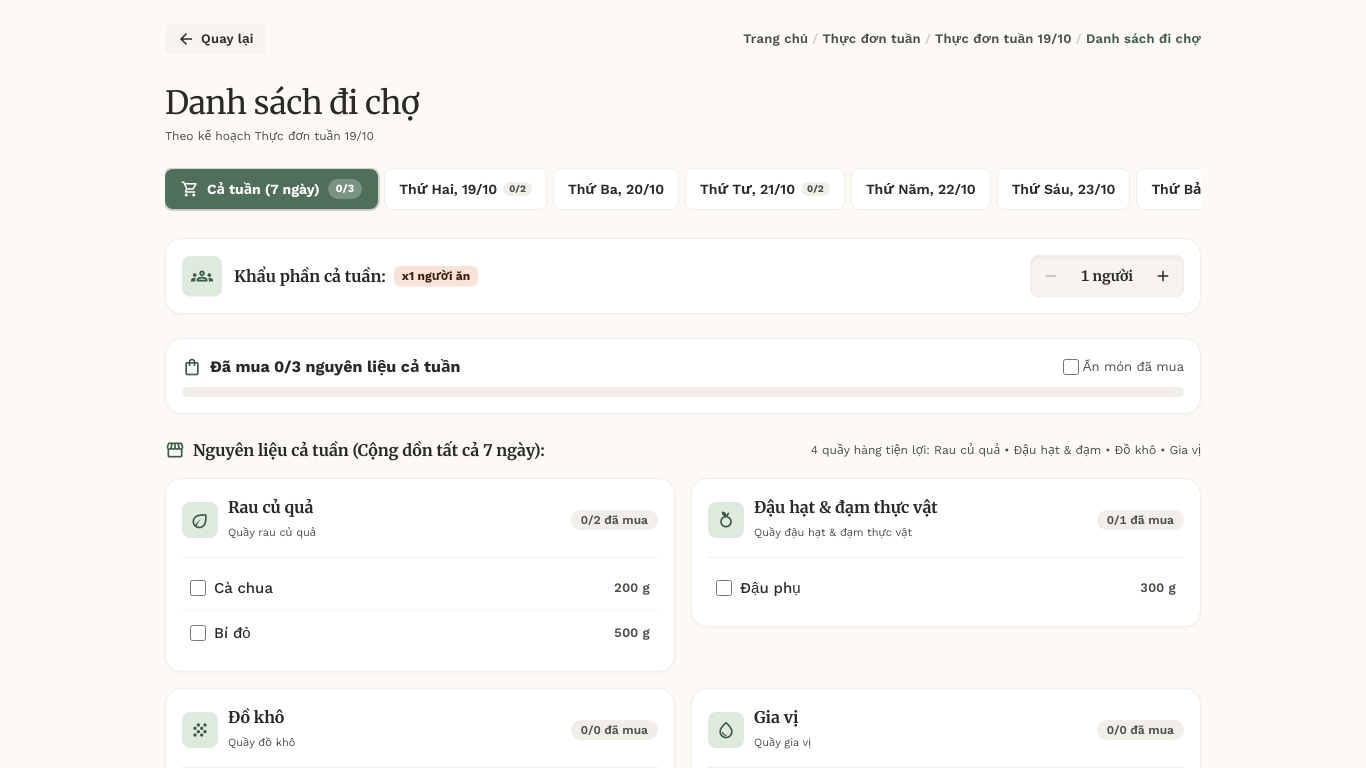
it: ShoppingList (SCR-24) - Tính năng đi chợ linh hoạt theo ngày & khẩu phần ăn › 1. Hiển thị danh sách đầy đủ khi ở chế độ "Cả tuần" và lọc đúng nguyên liệu khi chọn từng ngày
Expected: the heading "Danh sách đi chợ" is shown, [165,82,419,124]
Expected: the text "Cà chua" is shown, [214,576,273,600]
Bấm chọn lọc "Thứ Hai" (MON)
Click the tab "Thứ Hai, 19/10 0/2" at [466, 189], box [384,168,547,210]
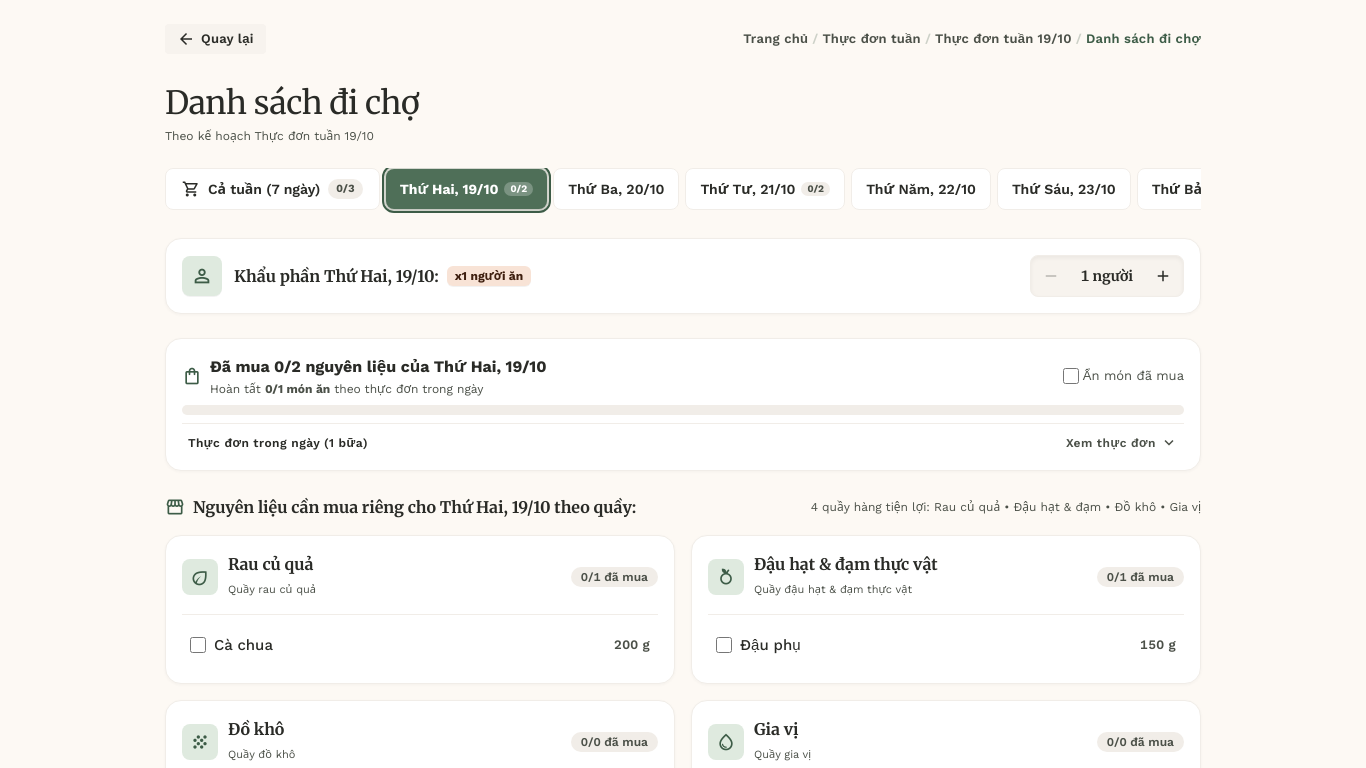
Expected: the text "Cà chua" is shown, [214,633,273,657]
Result: the text "Bí đỏ" is gone
Bấm chọn lọc "Thứ Tư" (WED)
Click the tab "Thứ Tư, 21/10 0/2" at [765, 189], box [685,168,845,210]
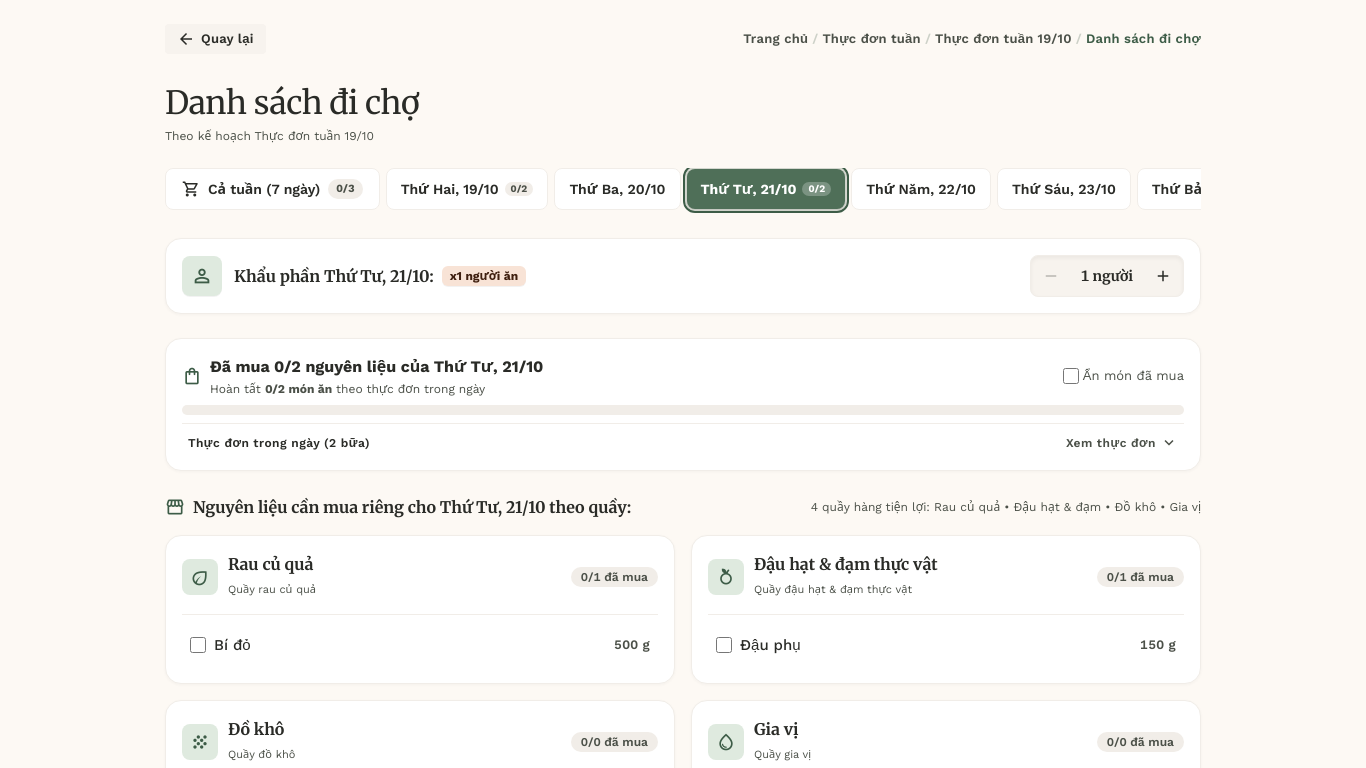
Expected: the text "Đậu phụ" is shown, [740,633,801,657]
Result: the text "Bí đỏ" is shown at [214,633,251,657]
Result: the text "Cà chua" is gone
Bấm chọn lọc "Thứ Ba" (ngày không có món nào)
Click the tab "Thứ Ba, 20/10" at [618, 189], box [554,168,681,210]
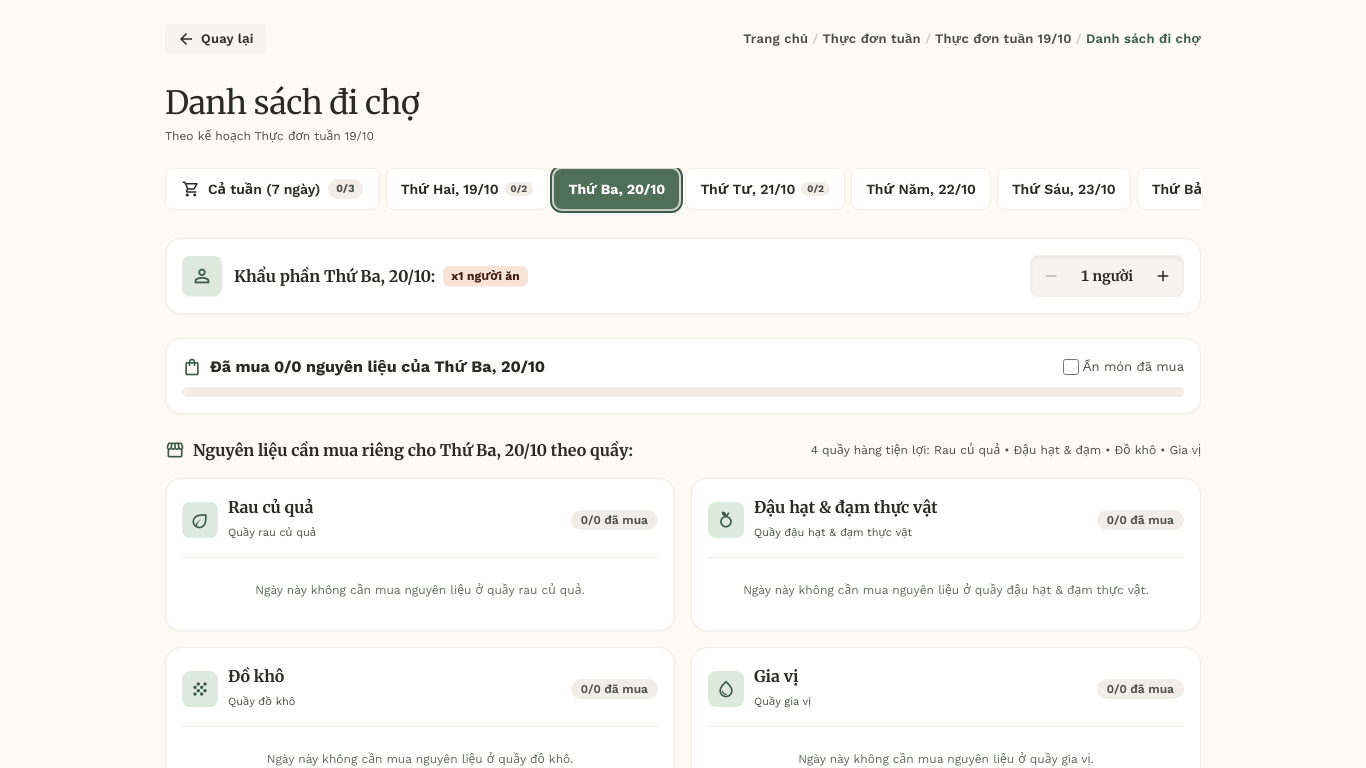
Result: the text "Ngày này không cần mua nguyên liệu ở quầy rau củ quả." is shown at [255,583,585,597]
Bấm quay lại "Cả tuần"
Click the tab "Cả tuần (7 ngày) 0/3" at [272, 189], box [165,168,380,210]
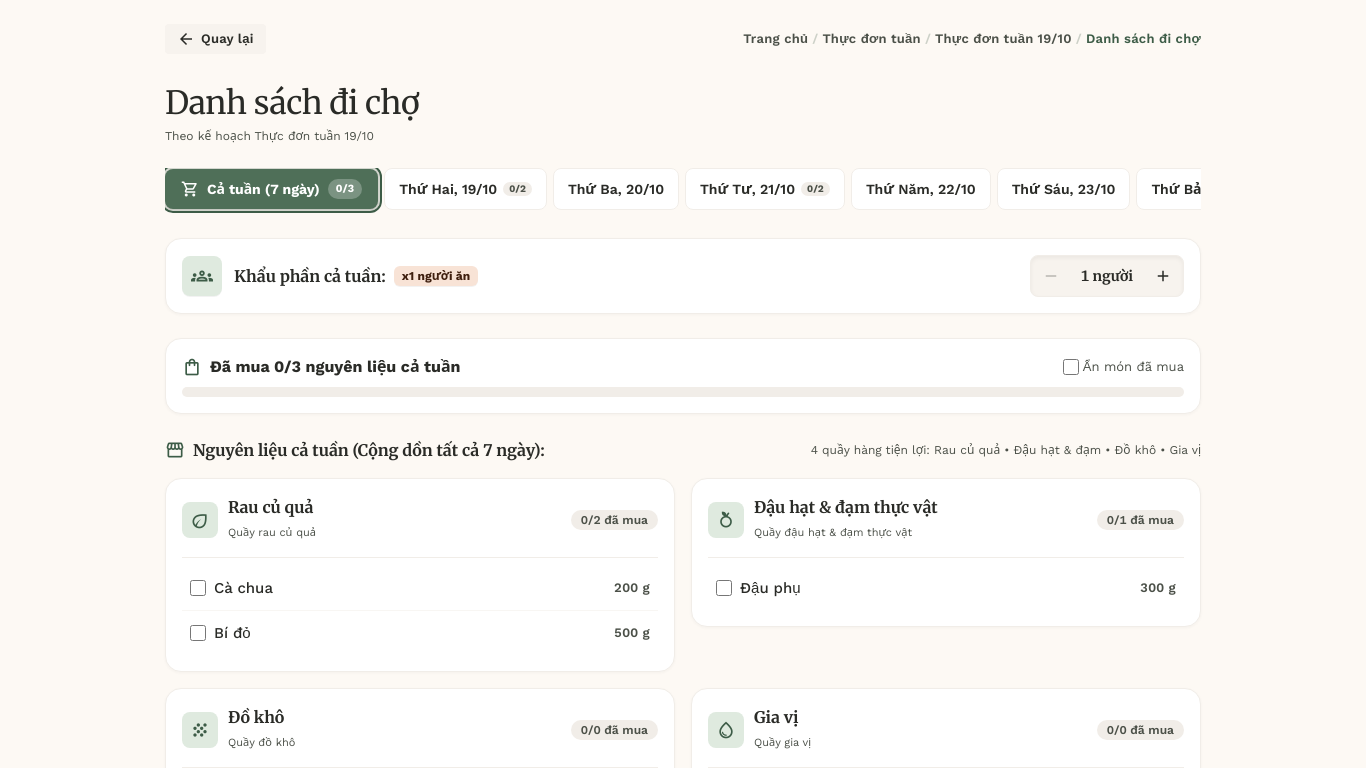
Result: the text "Cà chua" is shown at [214,576,273,600]
Result: the text "Bí đỏ" is shown at [214,621,251,645]
Result: the text "Đậu phụ" is shown at [740,576,801,600]
